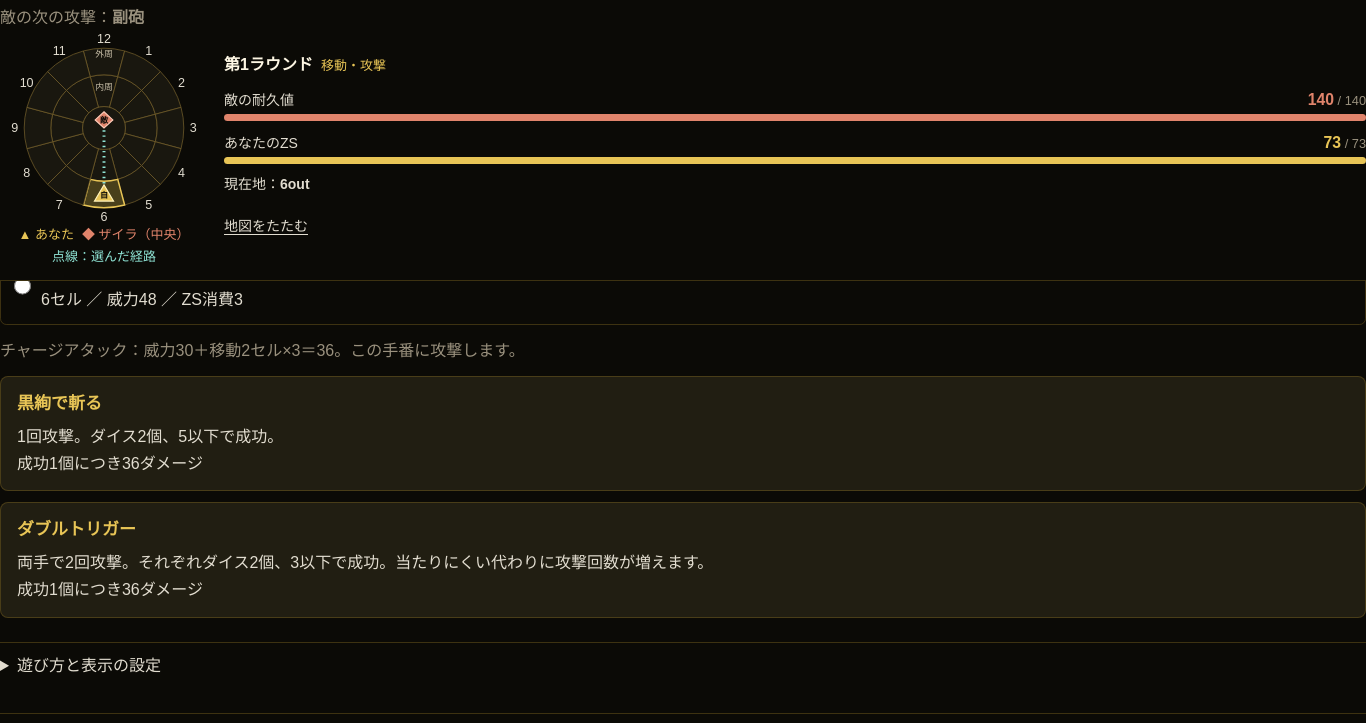
it: 戦闘画面 › ダブルトリガーは右手と左手それぞれの出目を表示する
(page scrolled)
Click the button "ダブルトリガー": (683, 560) [0,502,1365,618]
(page scrolled)
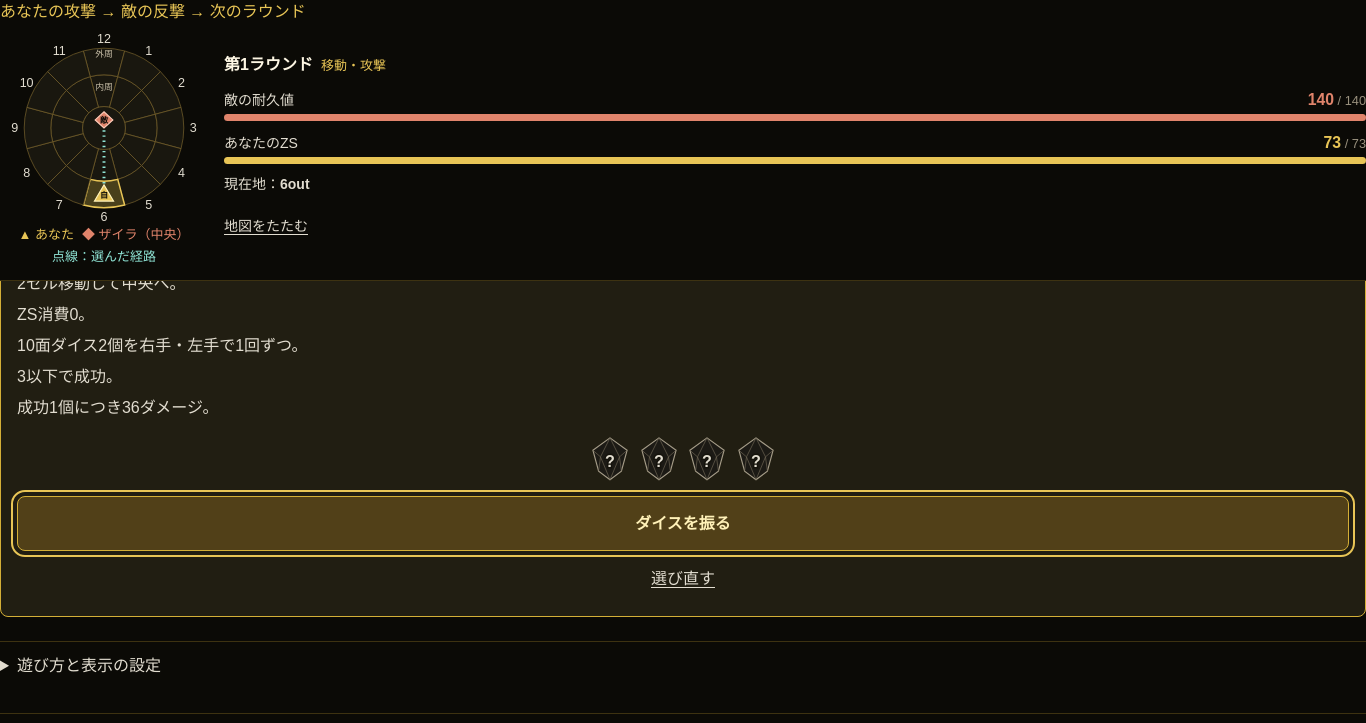
Click the button "ダイスを振る": (683, 523) [17,496,1349,551]
(page scrolled)
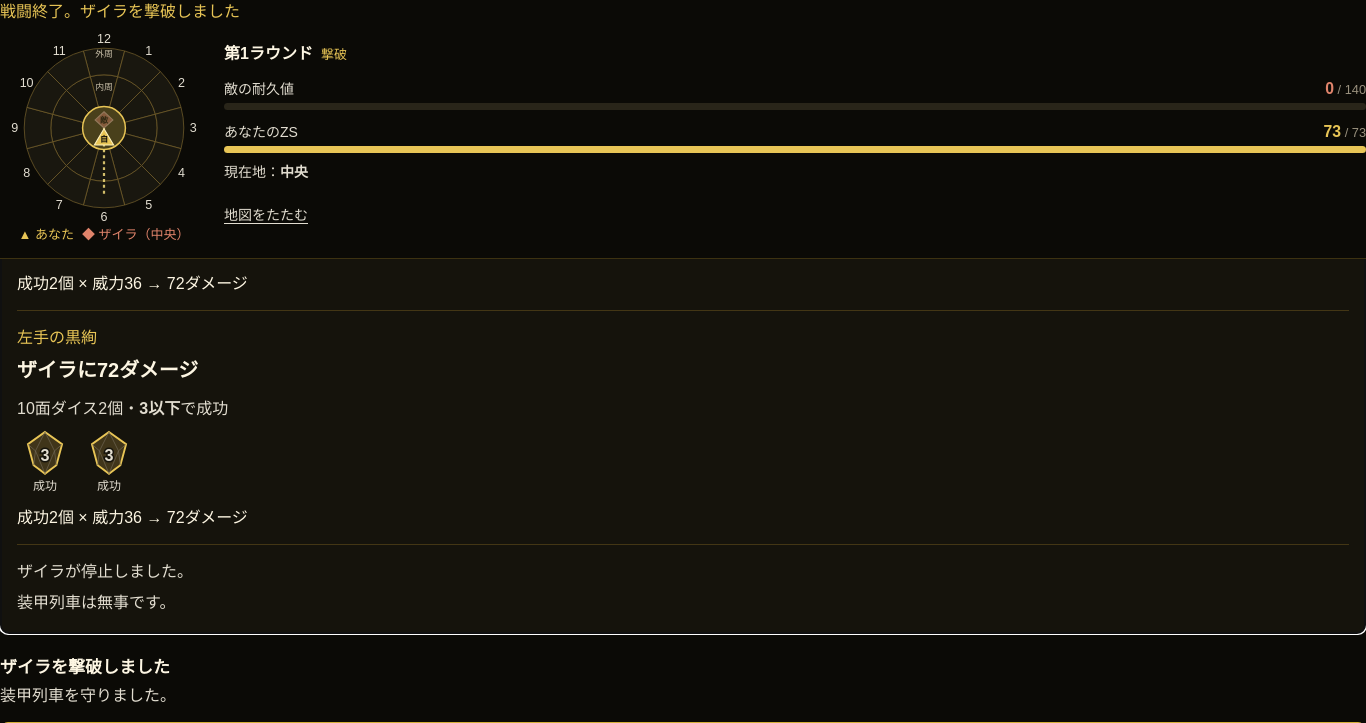
Expected: the heading "右手の黒絢" is shown, [17,94,97,111]
Expected: the heading "左手の黒絢" is shown, [17,329,97,346]
Expected: the number of list items is 4, [25,196,65,258]; [89,196,129,258]; [25,430,65,493]; [89,430,129,493]
